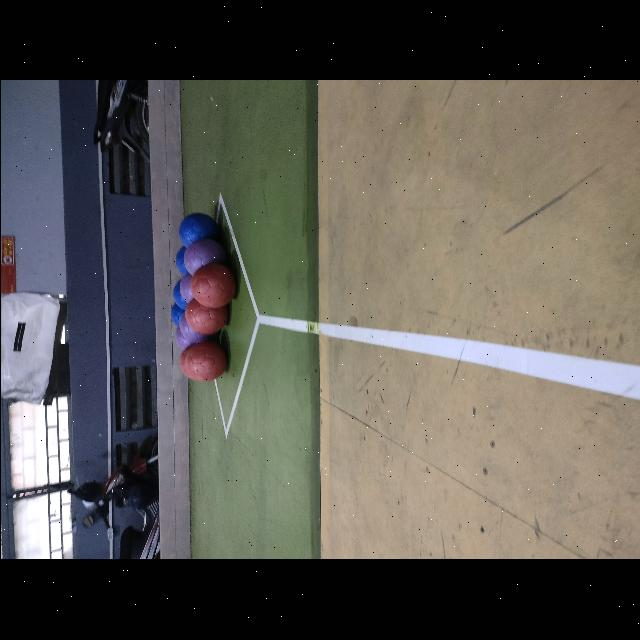B: (178, 214, 218, 248), (173, 280, 201, 310), (174, 247, 200, 276), (170, 305, 190, 327)
P: (183, 239, 225, 275), (178, 315, 210, 345), (178, 274, 205, 306)
R: (190, 264, 234, 308), (182, 342, 226, 382), (184, 298, 226, 336)
